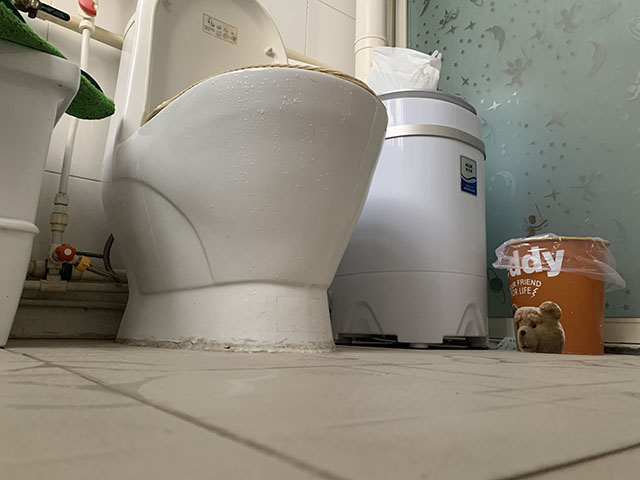closestool: (99, 1, 390, 355)
trashcan: (491, 233, 627, 356)
